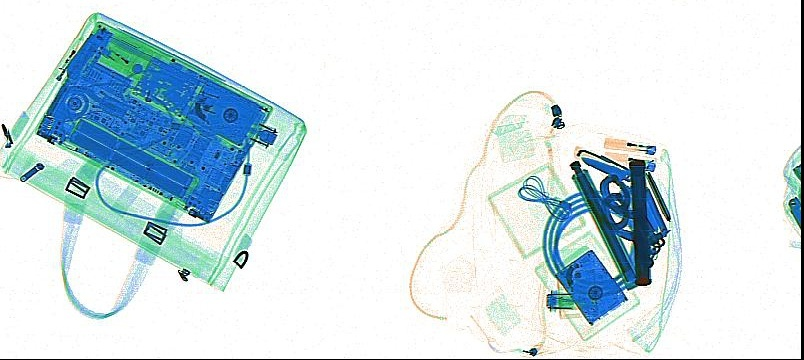handcuffs: (598, 173, 665, 255)
knife: (572, 145, 636, 182), (65, 31, 102, 80), (644, 171, 671, 220)
lighter: (601, 151, 655, 171), (603, 137, 655, 155)
